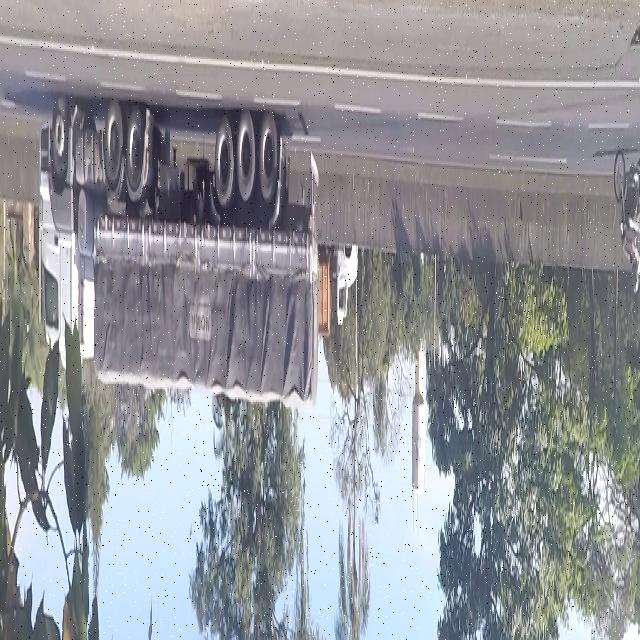-axle: (48, 80, 72, 180), (257, 110, 279, 211), (124, 101, 146, 197), (104, 94, 123, 204), (213, 122, 234, 213), (237, 106, 256, 206)
